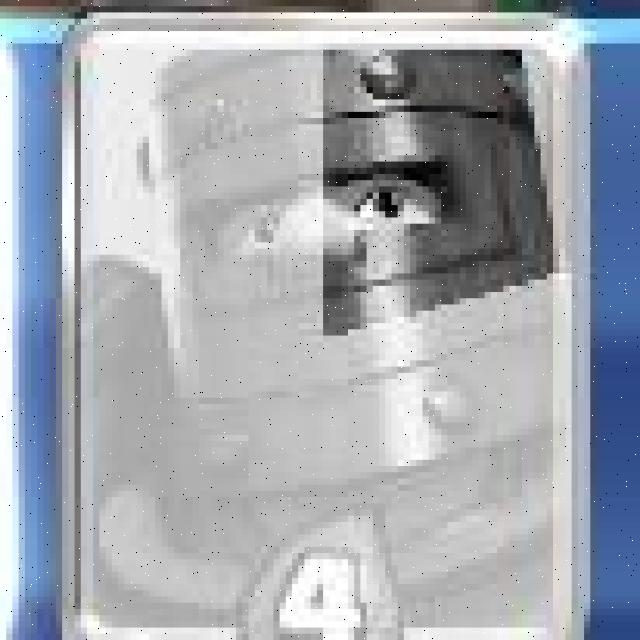Dark_Prince: (58, 4, 596, 634)
